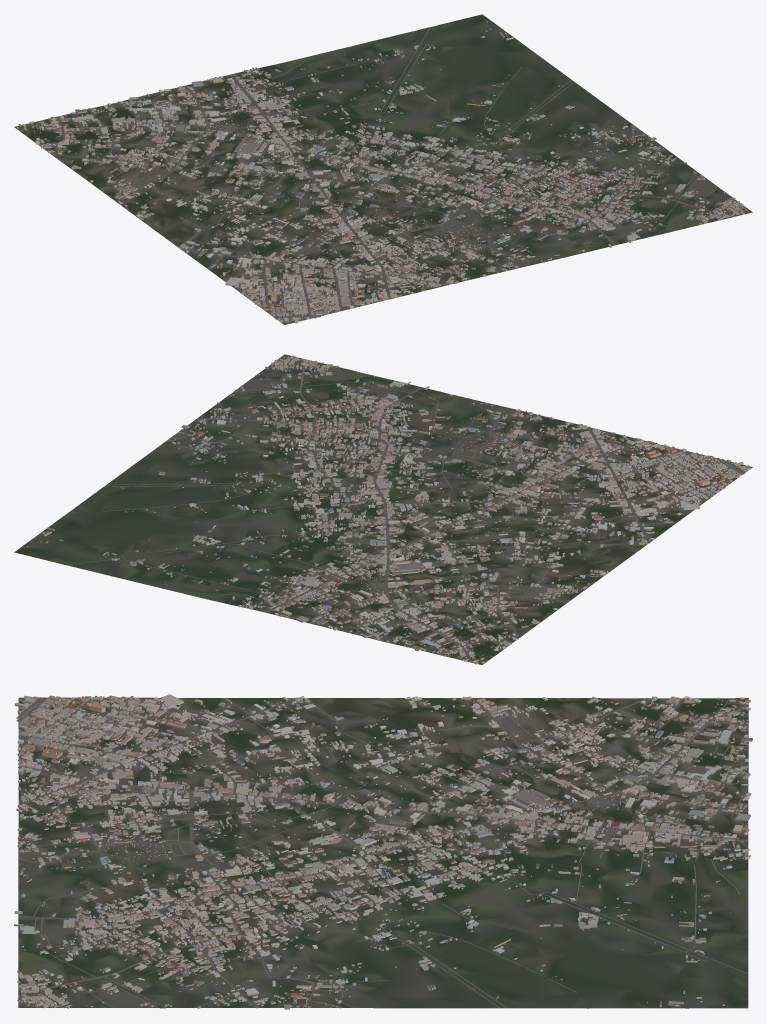
The picture shows the model from 3 angles, top to bottom: view 1: azimuth 30°, elevation 25°; view 2: azimuth 150°, elevation 25°; view 3: azimuth 270°, elevation 25°; orthographic projection. The views are drawn at different scales.
Parts seen in each view (by area): view 1: ground, buildings, roads; view 2: ground, buildings, roads; view 3: ground, buildings, roads.
Boxes of the visible parts, x1,y1,x2,y2 form: ground: (14, 14, 752, 324); buildings: (16, 21, 747, 324); roads: (21, 27, 745, 319); ground: (14, 354, 752, 664); buildings: (27, 355, 751, 664); roads: (66, 357, 745, 662); ground: (18, 697, 748, 1008); buildings: (14, 694, 752, 1009); roads: (16, 697, 749, 1008).
Size of the model in its own units: 2833 by 33.75 by 2836.
